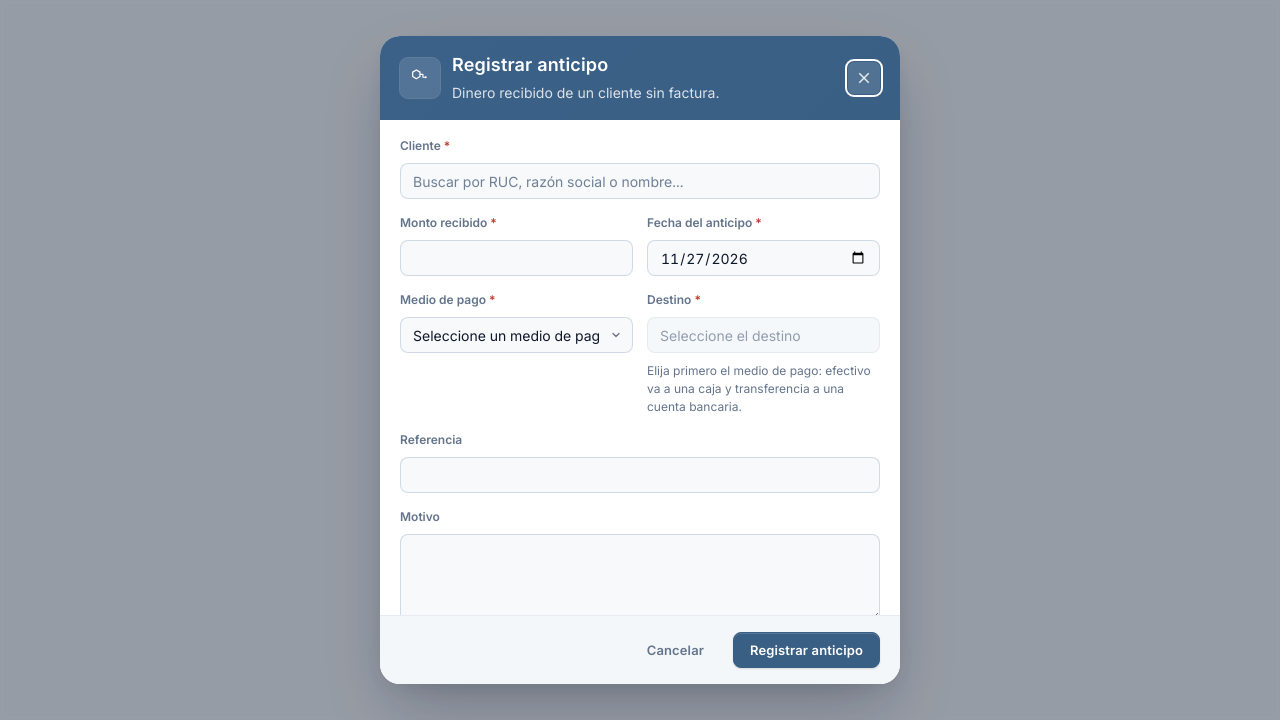
Scenario: Registro — cada recurso exige solo su permiso › pm-cash sin su permiso lo explica y no aparenta estar vacío
Select "Efectivo" in the dropdown labelled "Medio de pago*": coordinates (516, 335) [400,317,633,353]
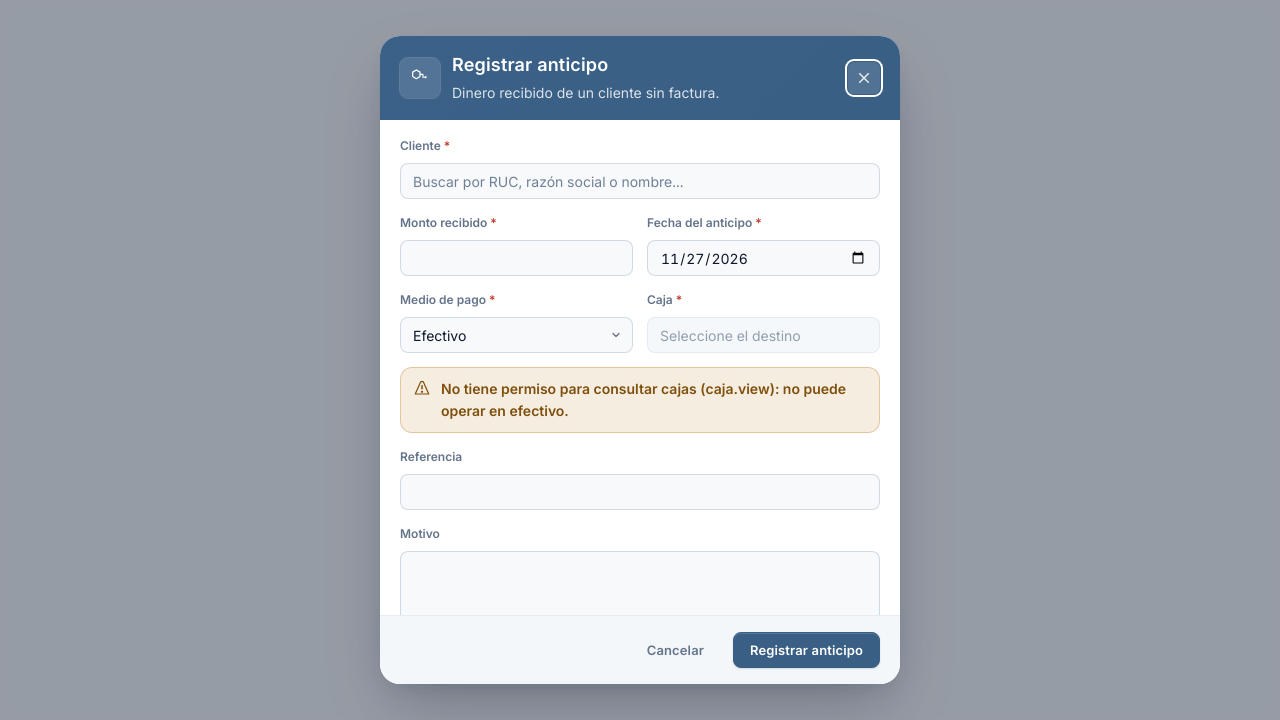
Check: the dropdown labelled "Caja*" is disabled, box [647,317,880,353]
Check: the text "No tiene permiso para consultar cajas (caja.view)" is shown, box [441,380,846,419]
